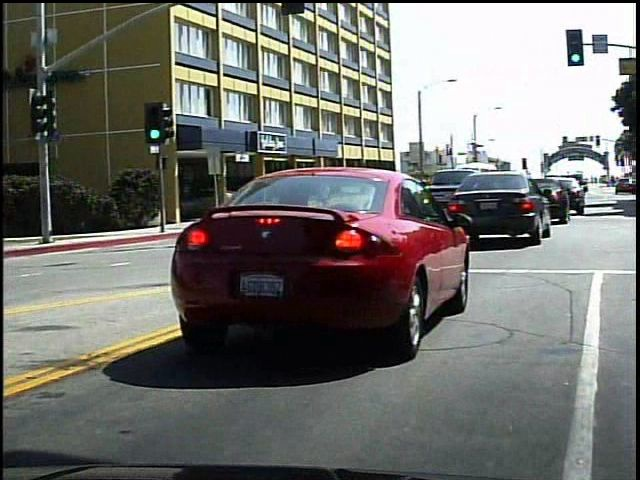person: (274, 182, 293, 219)
